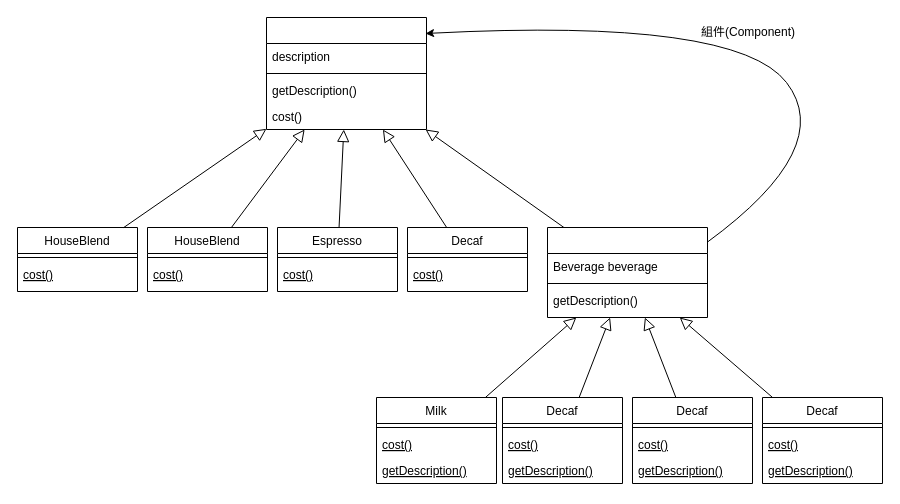
Image size: 900x504. Some labels were removed from this diagram. The shapes that lost their labels are listed below. From the top down, each one's box as (x1, y1, x2, y2) in pixels, then its label:
(266, 16, 426, 130): Beverage
(546, 226, 708, 318): CondimentDecorator
